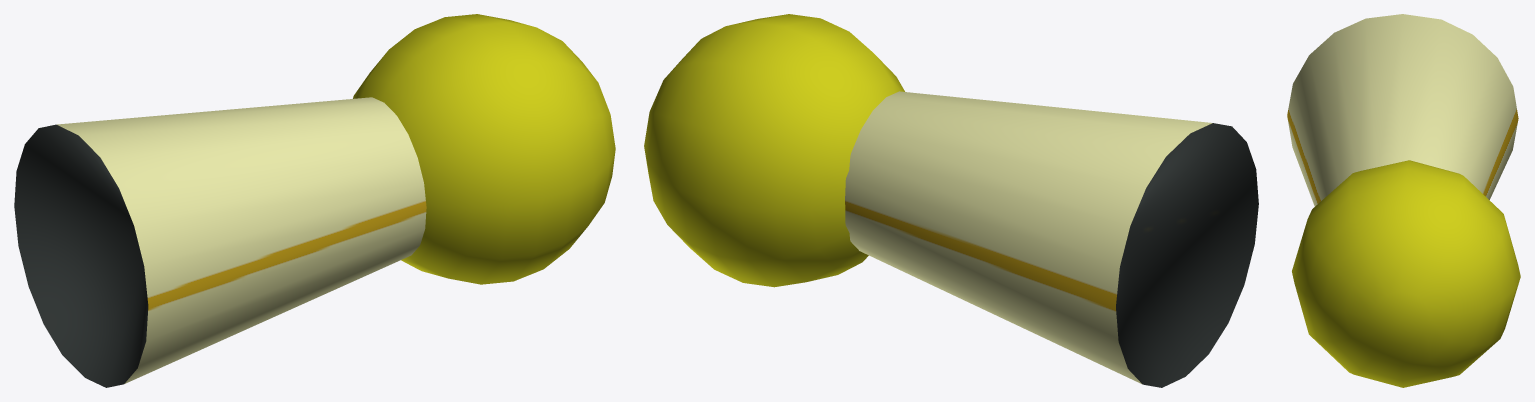
Rendered from arm.fbx.
3 renders of one model, left to right at view 1: azimuth 30°, elevation 25°; view 2: azimuth 150°, elevation 25°; view 3: azimuth 270°, elevation 25°, orthographic. The views are drawn at different scales.
Parts seen in each view (by area): view 1: polySurface9; view 2: polySurface9; view 3: polySurface9.
Boxes of the visible parts, left/top/right/bottom form: polySurface9: left=14, top=14, right=615, bottom=387; polySurface9: left=644, top=14, right=1258, bottom=387; polySurface9: left=1287, top=14, right=1520, bottom=387.
Bounding box in the file's own units: 10.45 × 4.85 × 4.83.
